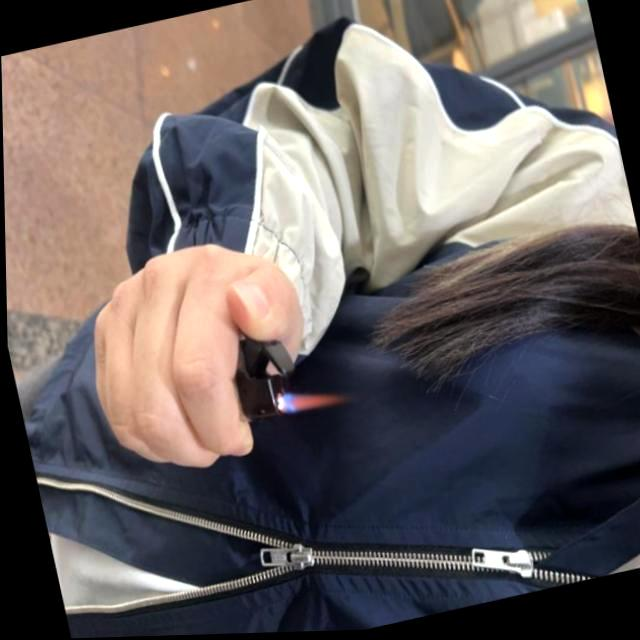fire: (270, 378, 348, 422)
